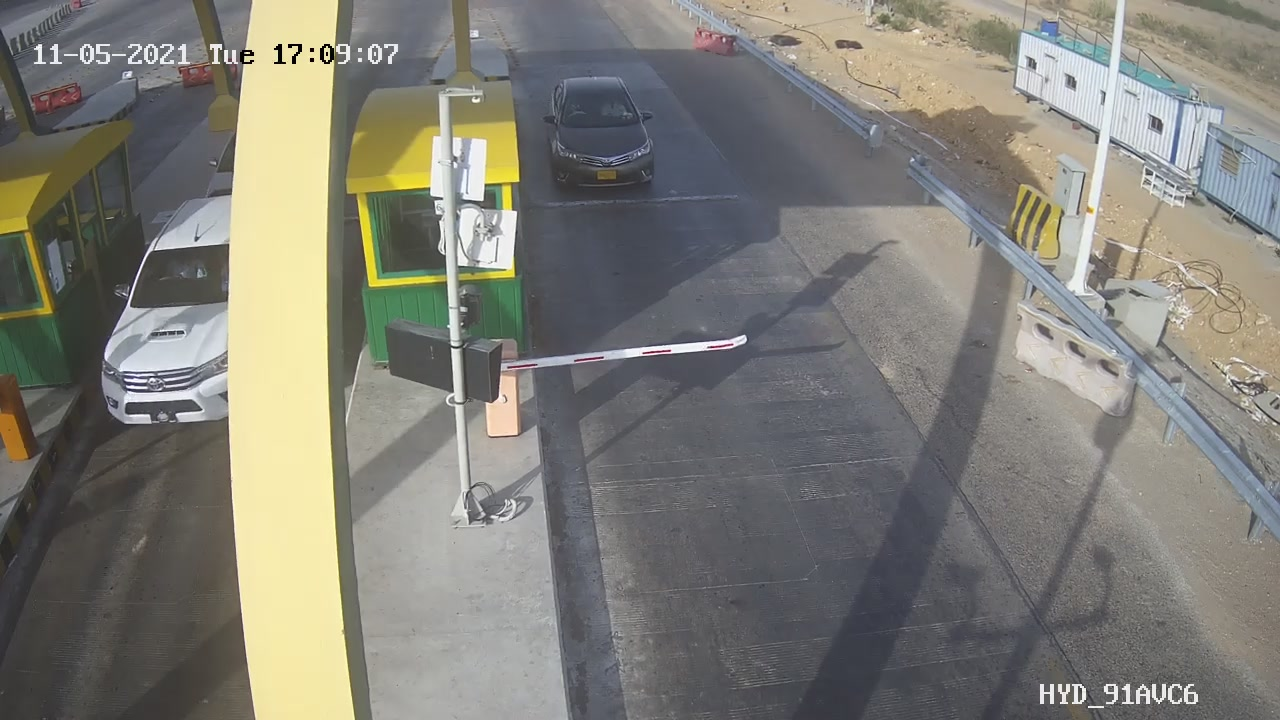F1: (530, 57, 681, 212)
